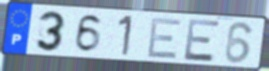1: (116, 15, 134, 58)
3: (36, 10, 67, 53)
6: (222, 21, 256, 65), (73, 14, 104, 55)
E: (182, 17, 222, 63), (145, 17, 184, 60)
